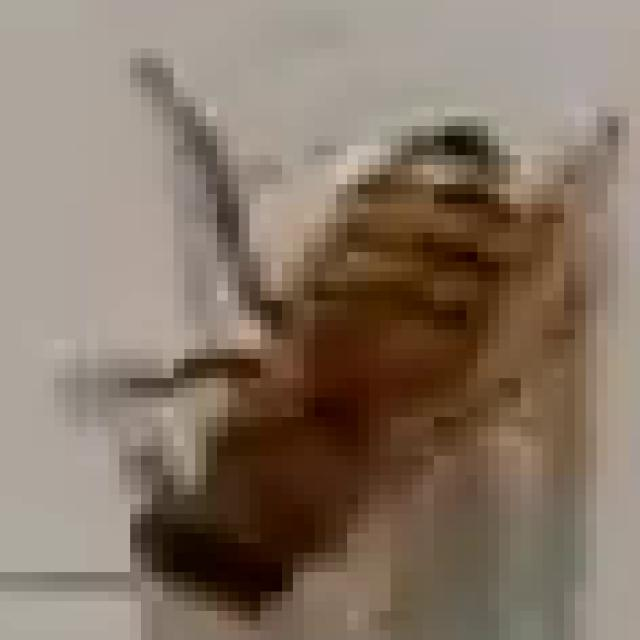honeybee: (111, 71, 574, 574)
